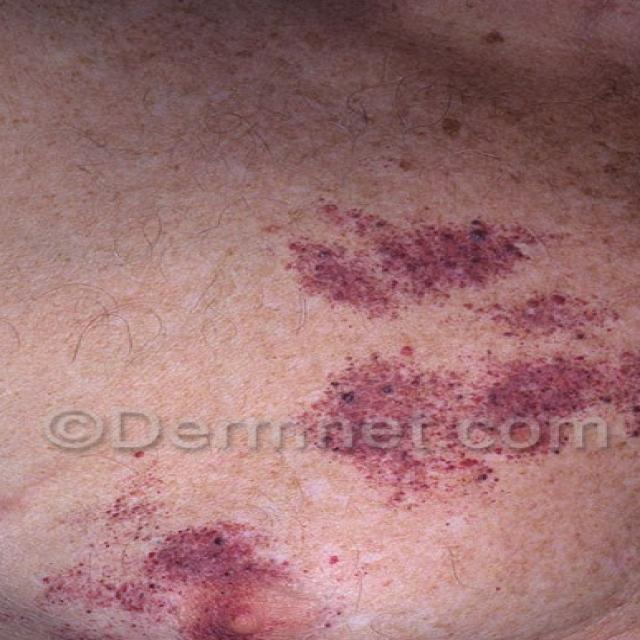Vascular Tumors: (236, 190, 640, 500), (47, 488, 333, 640)
